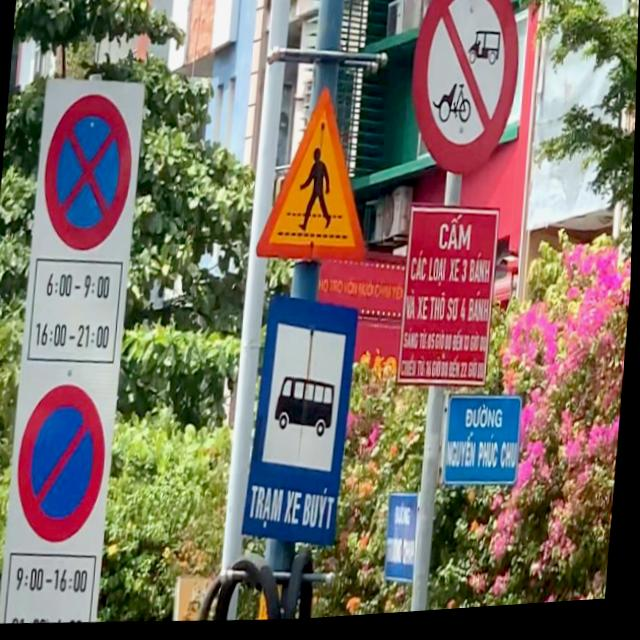Ben xe buyt: (243, 286, 366, 559)
Cam do xe: (15, 380, 115, 550)
Cam dung xe va do xe: (39, 90, 140, 257)
Nguoi di bo cat ngang: (254, 83, 383, 275)
